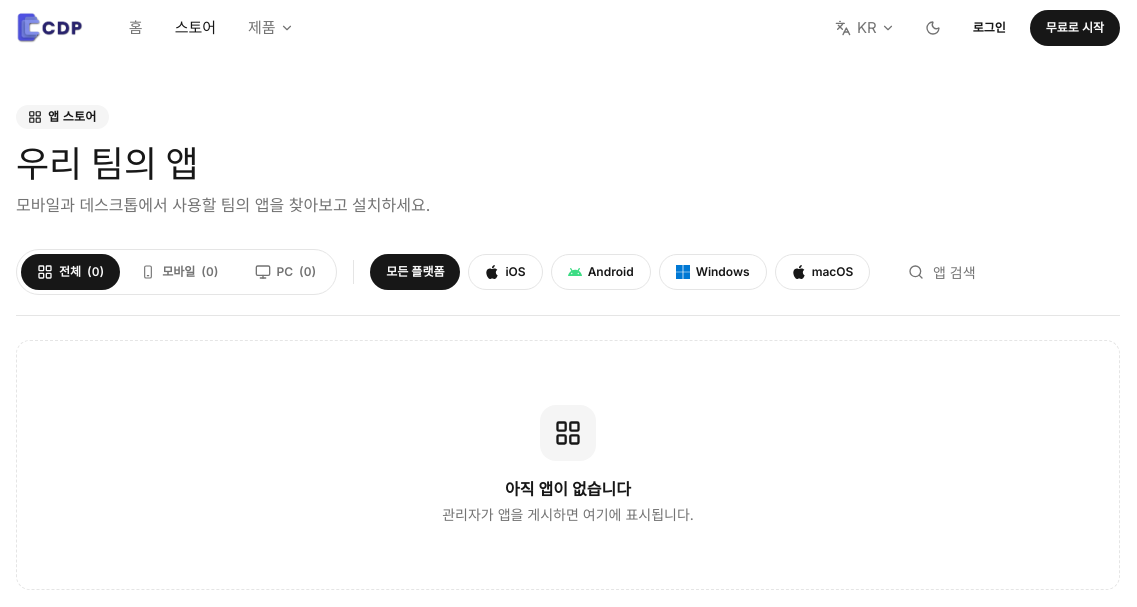
Scenario: /store — translated in every locale › translates the empty and no-match states in ko
The width and height of the screenshot is (1137, 607).
Expected: the text "아직 앱이 없습니다" is shown, [505,477,631,501]
Expected: the text "관리자가 앱을 게시하면 여기에 표시됩니다." is shown, [442,505,694,525]
Step 1. Click the tab "모바일 (0)" → (179, 272), box [124,254,234,290]
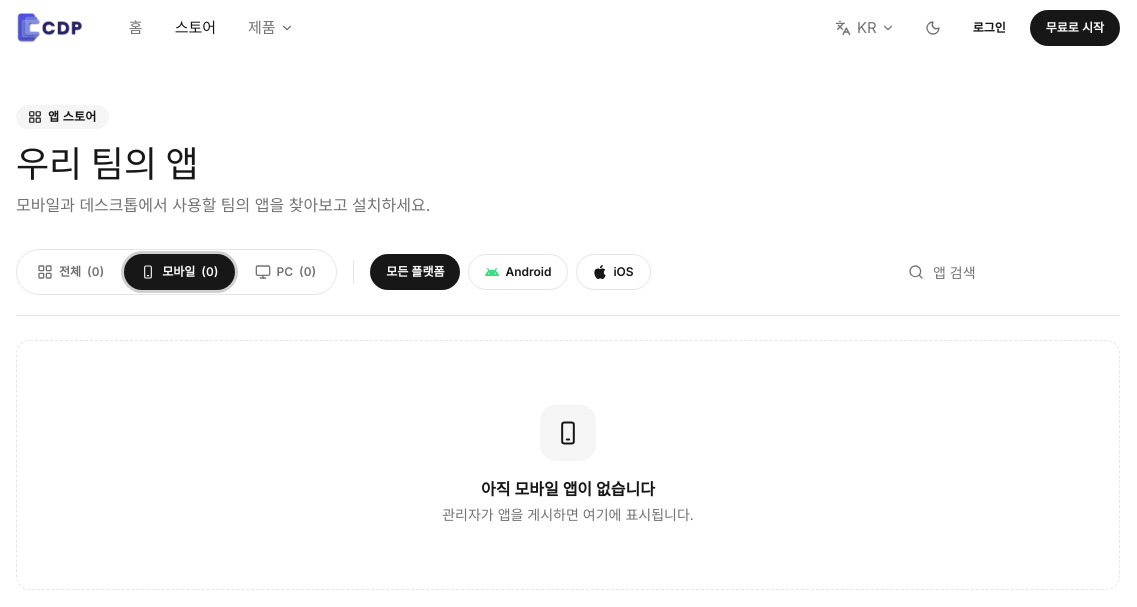
Now the text "아직 모바일 앱이 없습니다" is shown, box [481,477,655,501]
Step 2. Type "zzz" into the search field with placeholder "앱 검색" → (1008, 272), box [896,252,1120,292]
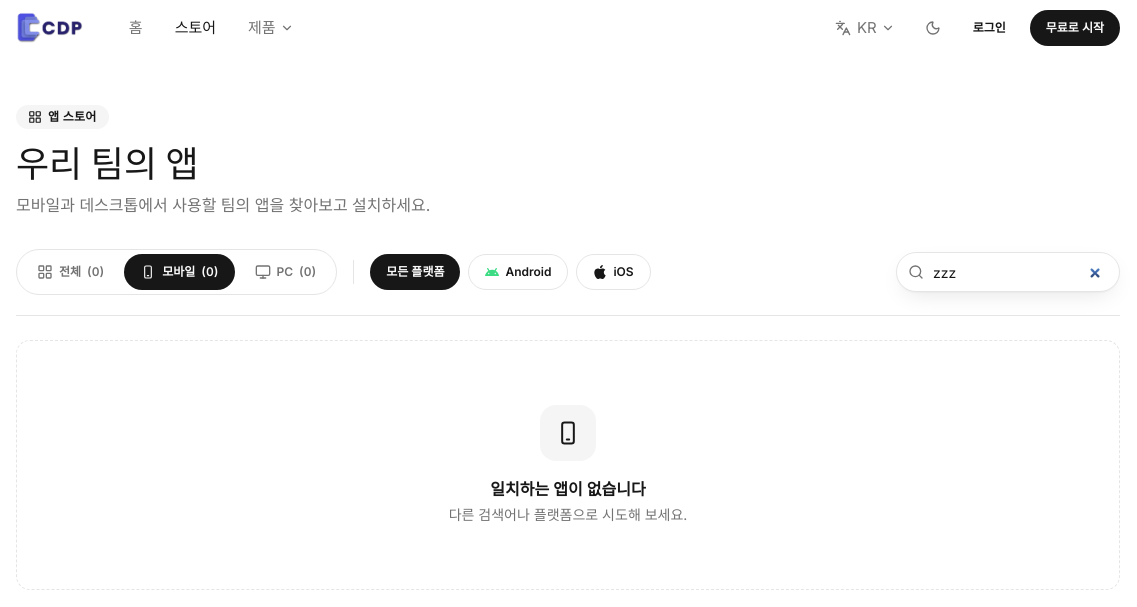
Now the text "일치하는 앱이 없습니다" is shown, box [490,477,646,501]
Now the text "다른 검색어나 플랫폼으로 시도해 보세요." is shown, box [449,505,687,525]
